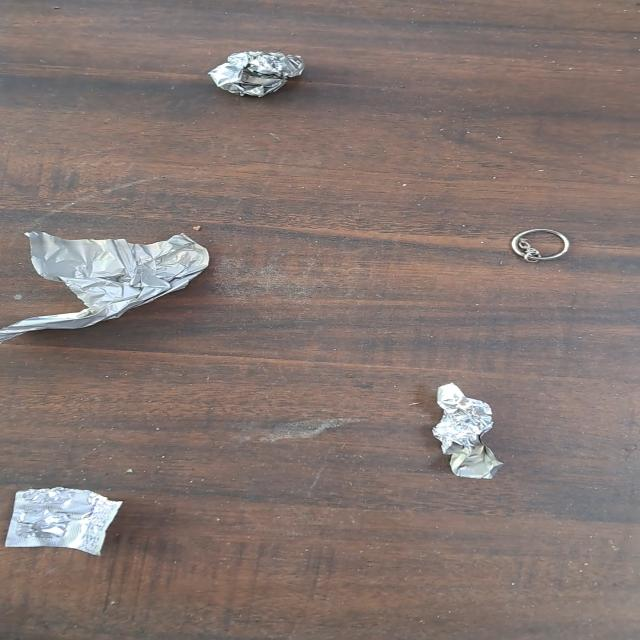Anorganik: (0, 224, 212, 341), (3, 484, 122, 559), (436, 382, 502, 478), (211, 54, 305, 99), (506, 226, 580, 264)
